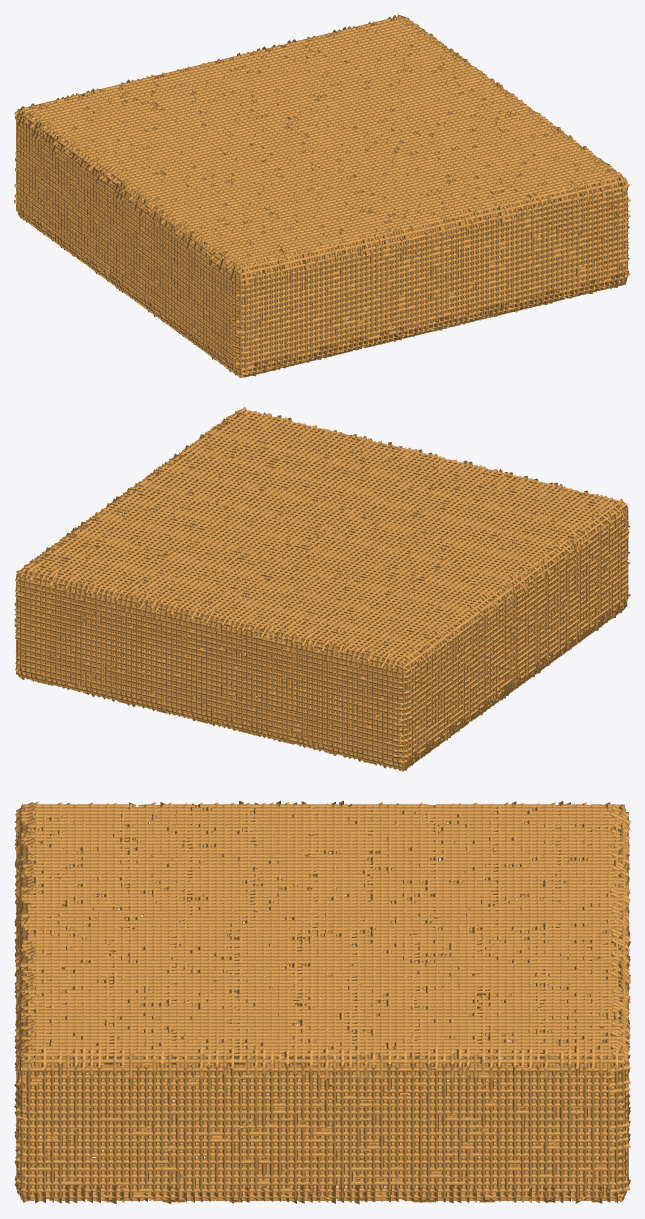
The model's file is Biscuit2.fbx.
The picture shows the model from 3 angles, top to bottom: view 1: azimuth 30°, elevation 25°; view 2: azimuth 150°, elevation 25°; view 3: azimuth 270°, elevation 25°; orthographic projection. The views are drawn at different scales.
Parts seen in each view (by area): view 1: Plane; view 2: Plane; view 3: Plane.
Boxes of the visible parts, x1,y1,x2,y2 form: Plane: (14,14,630,378); Plane: (14,407,630,771); Plane: (14,800,630,1204).
Bounding box in the file's own units: 787 × 214 × 787.
